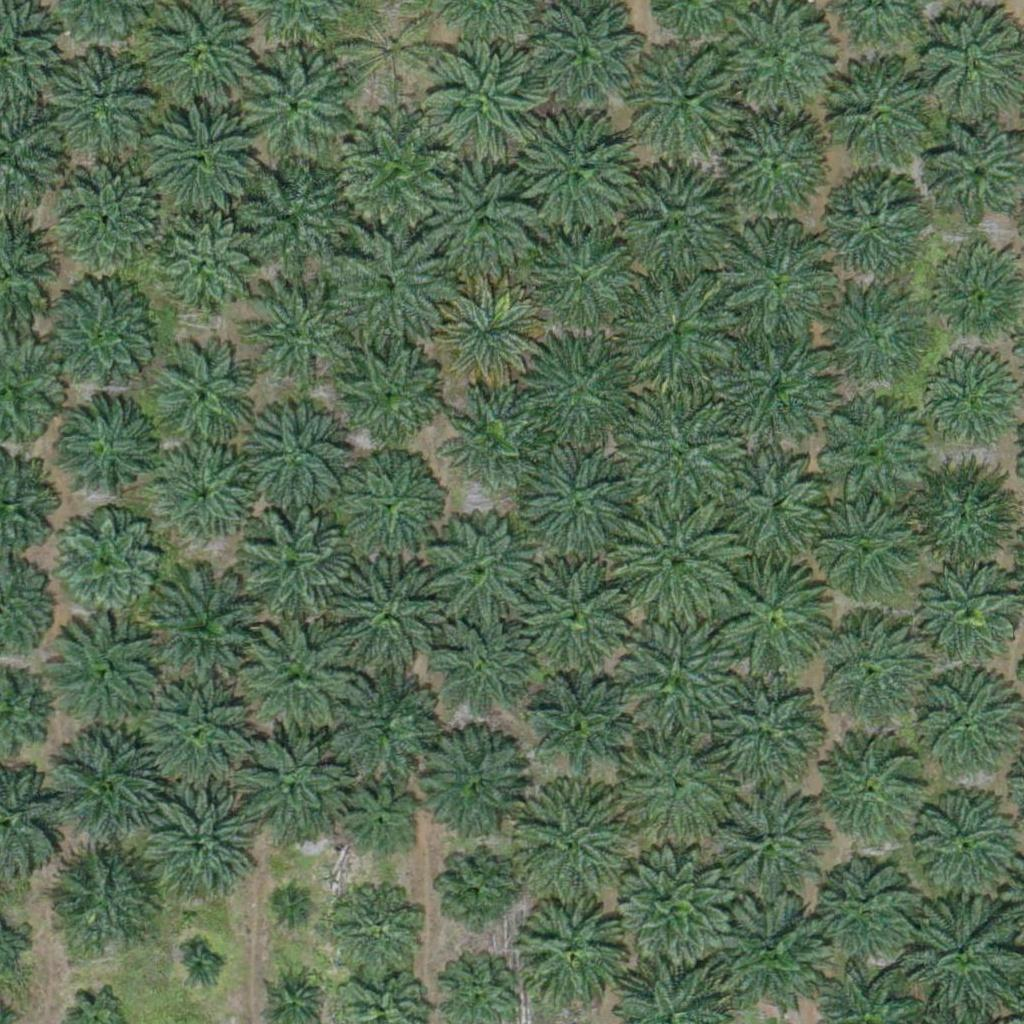Kelapa_Sawit: (146, 567, 271, 693), (613, 272, 738, 398), (619, 391, 744, 517), (613, 494, 738, 619), (141, 675, 254, 789), (51, 620, 164, 734), (724, 109, 837, 223), (630, 43, 743, 157), (716, 224, 829, 338), (49, 505, 162, 619), (812, 613, 925, 726), (721, 563, 834, 676), (711, 668, 824, 781), (708, 786, 821, 899), (511, 892, 624, 1005), (414, 732, 527, 845), (332, 560, 445, 673), (318, 661, 431, 774), (139, 784, 252, 897), (52, 726, 165, 839), (43, 841, 156, 954), (807, 490, 920, 603), (721, 449, 834, 562), (723, 330, 836, 443), (616, 168, 729, 281), (517, 113, 630, 226), (234, 161, 347, 274), (242, 53, 355, 166), (338, 114, 451, 227), (432, 279, 545, 392), (429, 512, 542, 625), (334, 232, 447, 345), (330, 337, 443, 450), (43, 282, 156, 395), (232, 721, 344, 835), (907, 455, 1019, 569), (813, 391, 925, 505), (910, 663, 1022, 776), (717, 890, 829, 1003), (620, 617, 732, 730), (618, 726, 730, 839), (616, 845, 728, 958), (514, 782, 626, 895), (243, 619, 355, 732), (819, 61, 931, 174), (529, 223, 641, 336), (519, 332, 631, 445), (519, 443, 631, 556), (518, 555, 630, 668), (146, 99, 258, 212), (425, 163, 537, 276), (426, 41, 538, 154), (242, 277, 354, 390), (238, 509, 350, 622), (341, 1, 441, 102), (825, 732, 925, 833), (816, 856, 916, 957), (528, 679, 628, 780), (61, 165, 161, 266), (57, 51, 157, 152), (158, 219, 258, 320), (340, 457, 440, 558), (247, 402, 347, 503), (155, 351, 255, 452), (919, 562, 1019, 662), (821, 174, 921, 274), (922, 353, 1022, 453), (827, 285, 927, 385), (156, 444, 256, 544), (60, 398, 160, 498), (332, 882, 420, 970), (450, 394, 537, 483), (437, 626, 524, 714), (440, 852, 515, 928), (338, 785, 413, 861), (277, 886, 315, 924), (182, 948, 219, 986)
